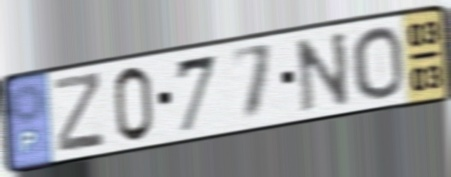0: (111, 63, 155, 145)
7: (170, 53, 221, 135), (228, 43, 275, 126)
N: (292, 28, 353, 116)
O: (348, 24, 407, 102)
Z: (52, 69, 107, 154)
